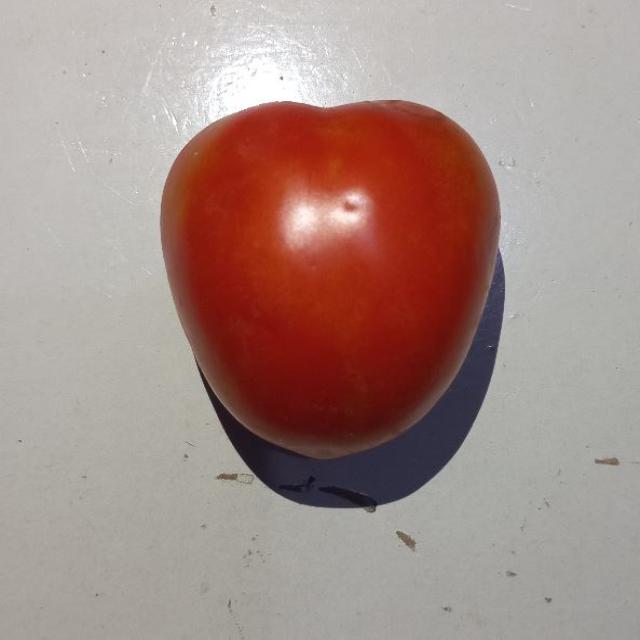ripe tomato: (164, 94, 502, 445)
